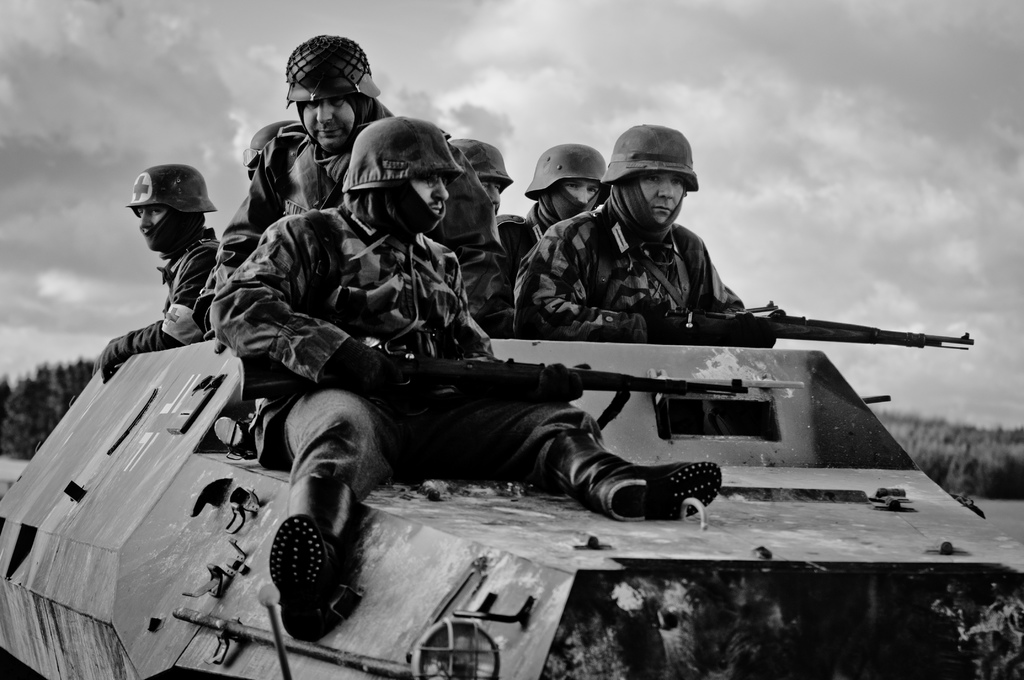face: (137, 192, 182, 247)
